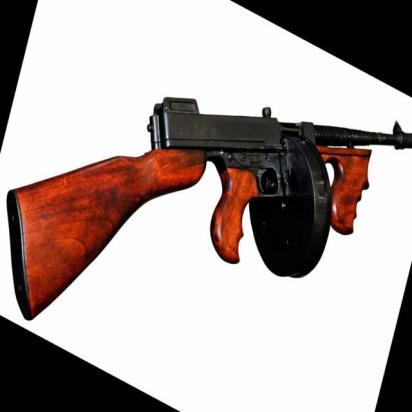Gun: (5, 94, 412, 317)
